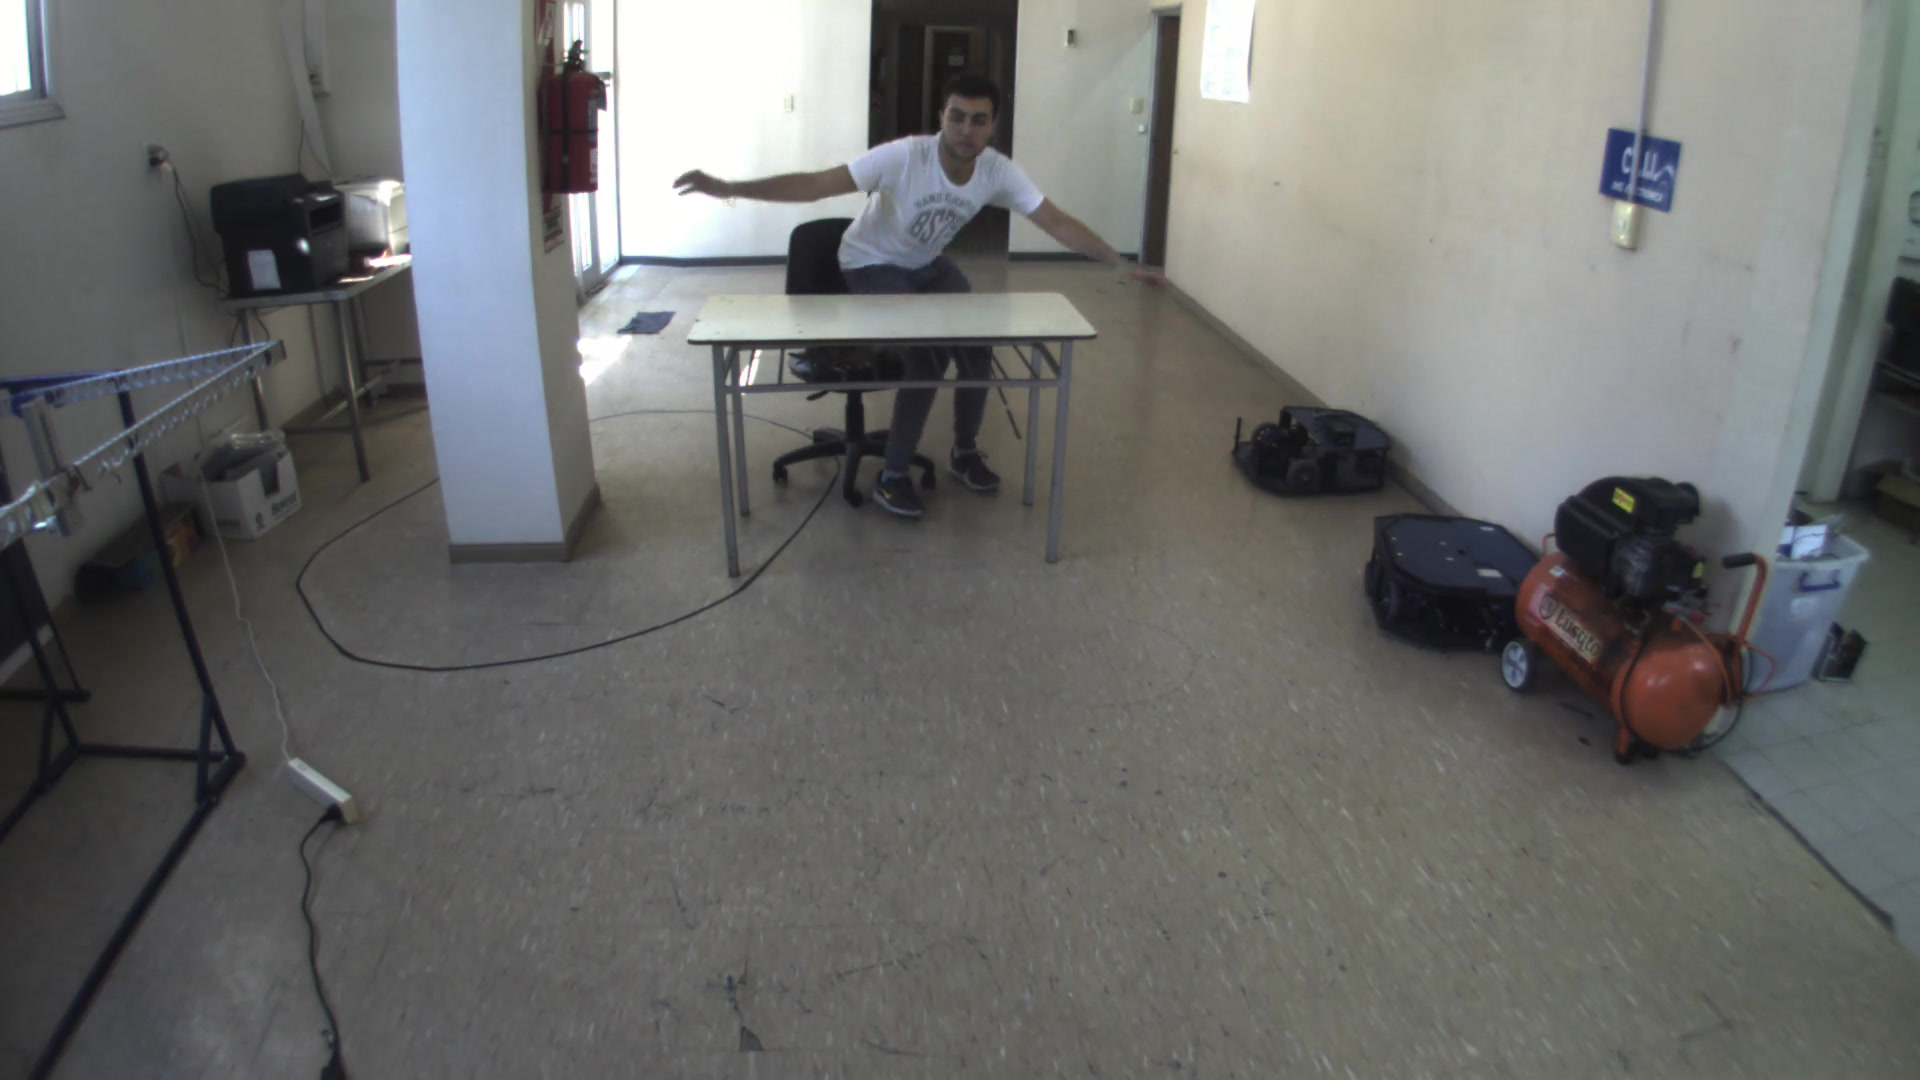hand: (659, 158, 731, 220), (1110, 249, 1175, 305)
